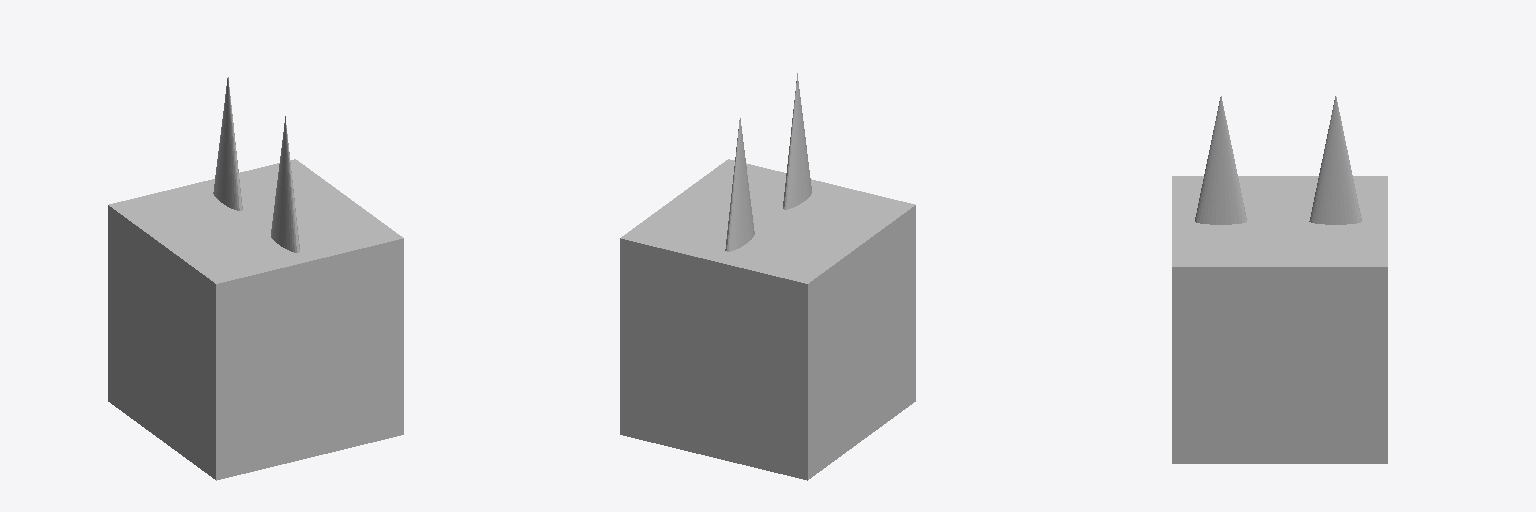
The model's file is wolfUnion.obj.
3 views of the same model, side by side, from view 1: azimuth 30°, elevation 25°; view 2: azimuth 150°, elevation 25°; view 3: azimuth 270°, elevation 25° (orthographic).
Visible parts, largest first — view 1: Cube; view 2: Cube; view 3: Cube.
Boxes of the visible parts, box(x1,y1,x2,y2) form: Cube: box(108, 77, 403, 480); Cube: box(620, 73, 915, 480); Cube: box(1172, 96, 1387, 463).
Size of the model in its own units: 2 by 3.3 by 2.